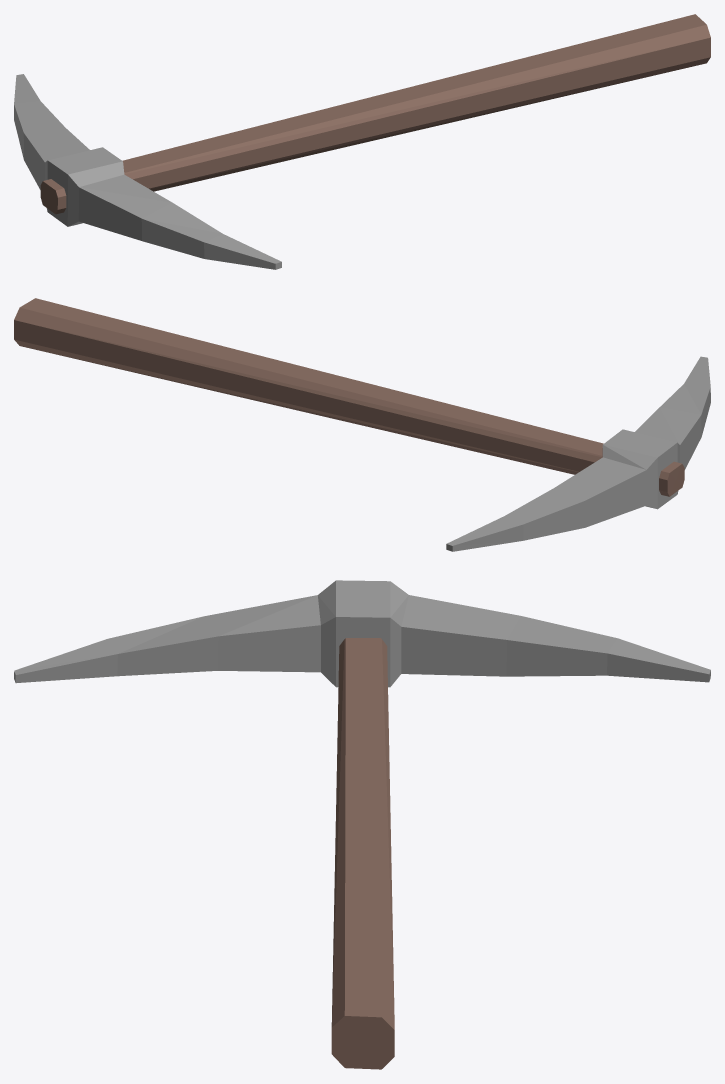
File: pickaxe.glb
3 renders of one model, top to bottom at view 1: azimuth 30°, elevation 25°; view 2: azimuth 150°, elevation 25°; view 3: azimuth 270°, elevation 25°, orthographic. The views are drawn at different scales.
Parts seen in each view (by area): view 1: rock02_Mesh_007_Base_0.1599; view 2: rock02_Mesh_007_Base_0.1599; view 3: rock02_Mesh_007_Base_0.1599.
Part boxes in pixels (x1,y1,x2,y2): rock02_Mesh_007_Base_0.1599: [14, 14, 710, 269]; rock02_Mesh_007_Base_0.1599: [14, 298, 710, 551]; rock02_Mesh_007_Base_0.1599: [14, 580, 710, 1069].
Size of the model in its own units: 1.39 by 0.1061 by 0.9478.
1 material, 1 textured.
